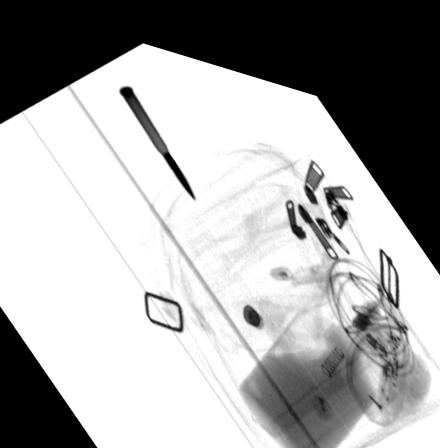Bullet: (118, 77, 197, 193)
